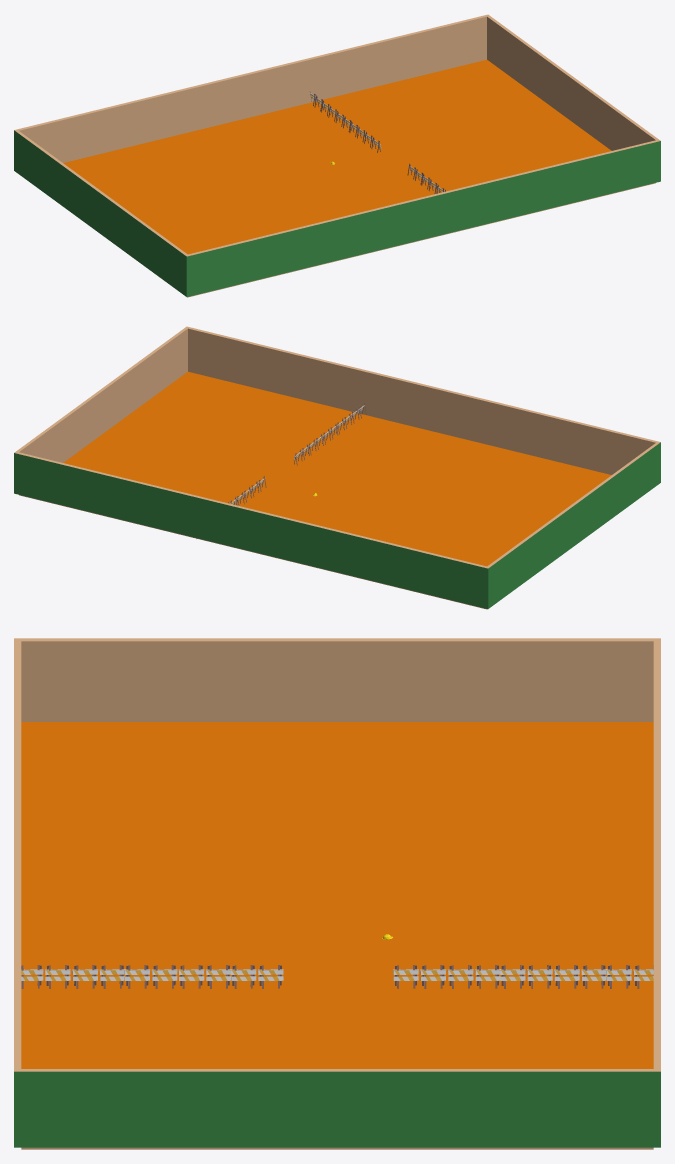
Rendered from Workingplanetmap.glb.
3 views of the same model, one above another, from view 1: azimuth 30°, elevation 25°; view 2: azimuth 150°, elevation 25°; view 3: azimuth 270°, elevation 25° (orthographic). The views are drawn at different scales.
Visible parts, largest first — view 1: Plane; view 2: Plane; view 3: Plane.
Part boxes in pixels (x1,y1,x2,y2): Plane: [14, 14, 660, 297]; Plane: [14, 326, 660, 609]; Plane: [14, 638, 660, 1149].
Bounding box in the file's own units: 81.03 × 7.03 × 51.15.
